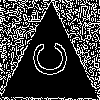C: (25, 40, 67, 78)
